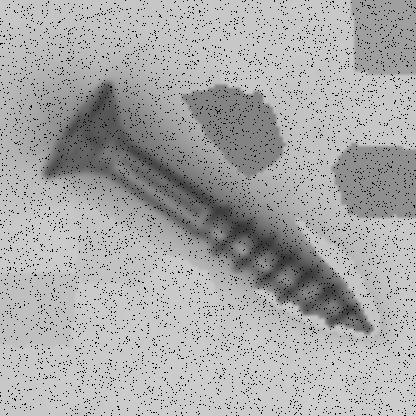metal: (40, 80, 375, 336)
